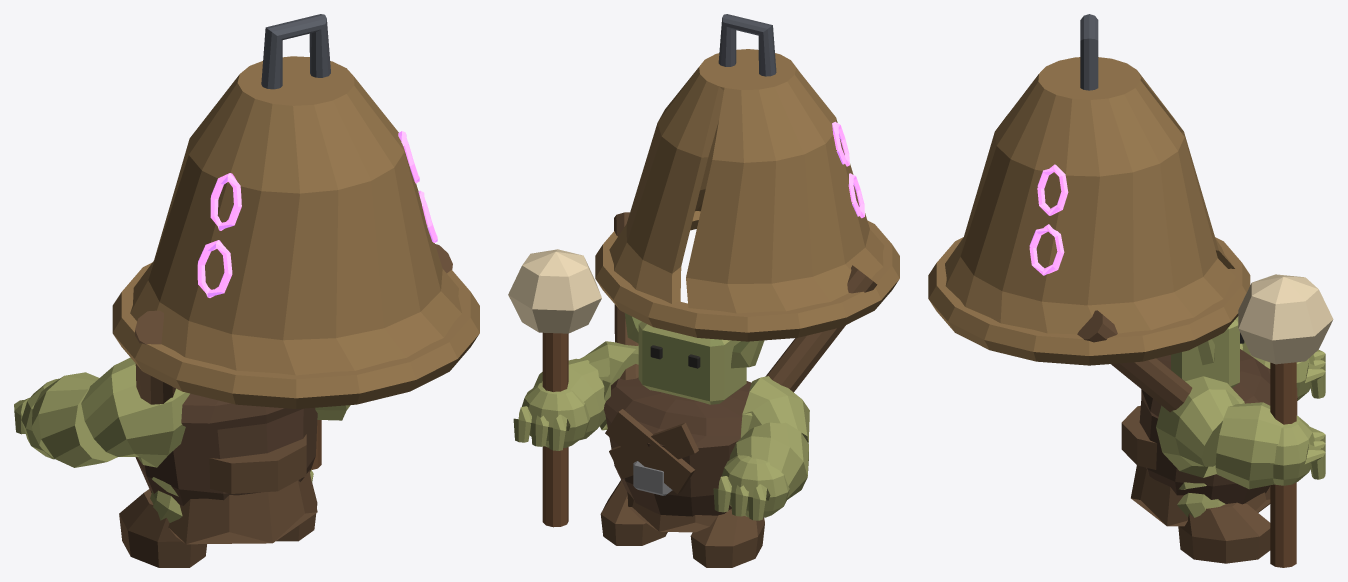
The model's file is host_12.glb.
3 renders of one model, left to right at view 1: azimuth 30°, elevation 25°; view 2: azimuth 150°, elevation 25°; view 3: azimuth 270°, elevation 25°, orthographic. The views are drawn at different scales.
Visible parts, largest first — view 1: V6 temple actual thick hollow bronze bell with open undersid, V6 temple thick flared contacting lower bronze rim, V6 source anatomical thorax, V6 source anatomical upper arm L, Leather ragged skirt, V6 source anatomical forearm L, Continuous leather waist belt, V6 bell carrier source short contacting leather boot L, V6 bell source contacting upper hanging loop, V6 temple actual source shoulder bell supporting leather str, V6 bell contacting purple source closed glyph loop, V6 bell contacting purple source closed glyph loop.001 (+2 smaller); view 2: V6 temple actual thick hollow bronze bell with open undersid, V6 temple thick flared contacting lower bronze rim, V6 source anatomical thorax, Observed face, V6 bell striker source rough round contacting bone mallet he, V6 temple actual source shoulder bell supporting leather str (×2), V6 source heavy club or mallet whole continuous held shaft, V6 source anatomical forearm L, V6 bell carrier source short contacting leather boot L, Crossed leather baldric R, V6 source anatomical upper arm L, V6 source anatomical palm R (+13 smaller); view 3: V6 temple actual thick hollow bronze bell with open undersid, V6 temple thick flared contacting lower bronze rim, V6 bell striker source rough round contacting bone mallet he, V6 source anatomical upper arm R, V6 source anatomical thorax, V6 source anatomical forearm R, V6 bell carrier source short contacting leather boot R, V6 source heavy club or mallet whole continuous held shaft, V6 temple actual source shoulder bell supporting leather str, Observed face, Leather ragged skirt, V6 source anatomical palm R (+7 smaller).
Boxes of the visible parts, x1,y1,x2,y2 form: V6 temple actual thick hollow bronze bell with open undersid: (130, 56, 461, 375); V6 temple thick flared contacting lower bronze rim: (112, 262, 479, 408); V6 source anatomical thorax: (135, 393, 317, 505); V6 source anatomical upper arm L: (81, 357, 189, 467); Leather ragged skirt: (150, 470, 317, 544); V6 source anatomical forearm L: (32, 372, 117, 467); Continuous leather waist belt: (209, 434, 306, 493); V6 bell carrier source short contacting leather boot L: (119, 489, 206, 567); V6 bell source contacting upper hanging loop: (261, 14, 330, 89); V6 temple actual source shoulder bell supporting leather str: (135, 310, 175, 404); V6 bell contacting purple source closed glyph loop: (197, 240, 232, 297); V6 bell contacting purple source closed glyph loop.001: (210, 173, 241, 230); V6 temple actual thick hollow bronze bell with open undersid: (609, 49, 884, 313); V6 temple thick flared contacting lower bronze rim: (595, 211, 899, 341); V6 source anatomical thorax: (604, 377, 751, 516); Observed face: (638, 321, 746, 404); V6 bell striker source rough round contacting bone mallet he: (508, 249, 601, 333); V6 temple actual source shoulder bell supporting leather str (×2): (614, 212, 877, 405); V6 source heavy club or mallet whole continuous held shaft: (542, 332, 568, 527); V6 source anatomical forearm L: (729, 422, 808, 499); V6 bell carrier source short contacting leather boot L: (690, 509, 764, 567); Crossed leather baldric R: (605, 409, 694, 494); V6 source anatomical upper arm L: (740, 376, 809, 443); V6 source anatomical palm R: (522, 383, 590, 447); V6 temple actual thick hollow bronze bell with open undersid: (945, 57, 1235, 334); V6 temple thick flared contacting lower bronze rim: (928, 237, 1250, 365); V6 bell striker source rough round contacting bone mallet he: (1238, 274, 1333, 364); V6 source anatomical upper arm R: (1156, 376, 1244, 477); V6 source anatomical thorax: (1139, 349, 1297, 504); V6 source anatomical forearm R: (1215, 402, 1283, 489); V6 bell carrier source short contacting leather boot R: (1178, 502, 1270, 563); V6 source heavy club or mallet whole continuous held shaft: (1270, 362, 1296, 567); V6 temple actual source shoulder bell supporting leather str: (1077, 310, 1192, 412); Observed face: (1171, 316, 1239, 387); Leather ragged skirt: (1131, 465, 1270, 526); V6 source anatomical palm R: (1273, 415, 1314, 485).
Bounding box in the file's own units: 0.7564 × 1.24 × 0.9072.
